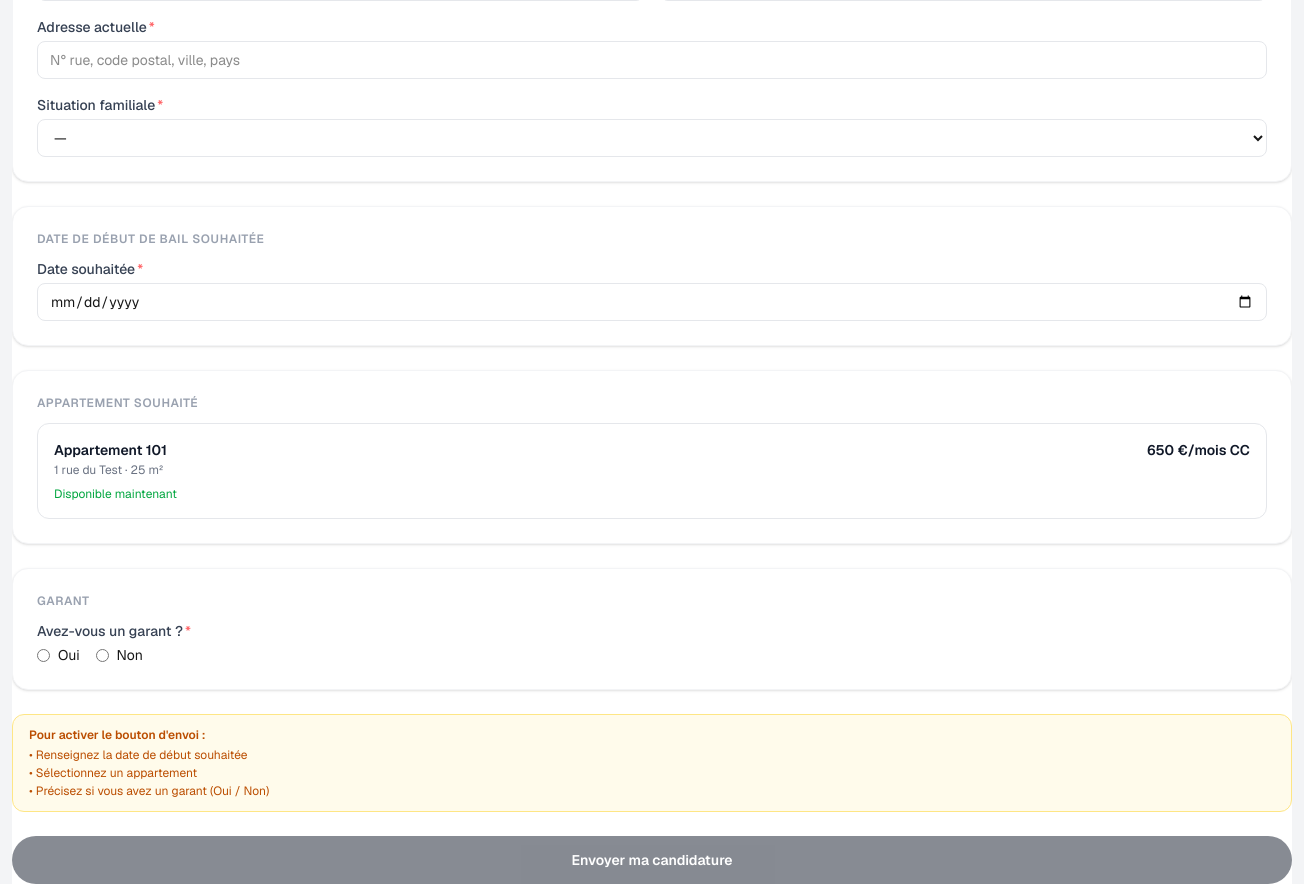
Test case: CandidateForm — section garant › affiche la section justificatifs garant si 'Oui'
The width and height of the screenshot is (1304, 884).
(page scrolled)
Click the radio button labelled "Oui" at (44, 655), box [37,648,50,662]
(page scrolled)
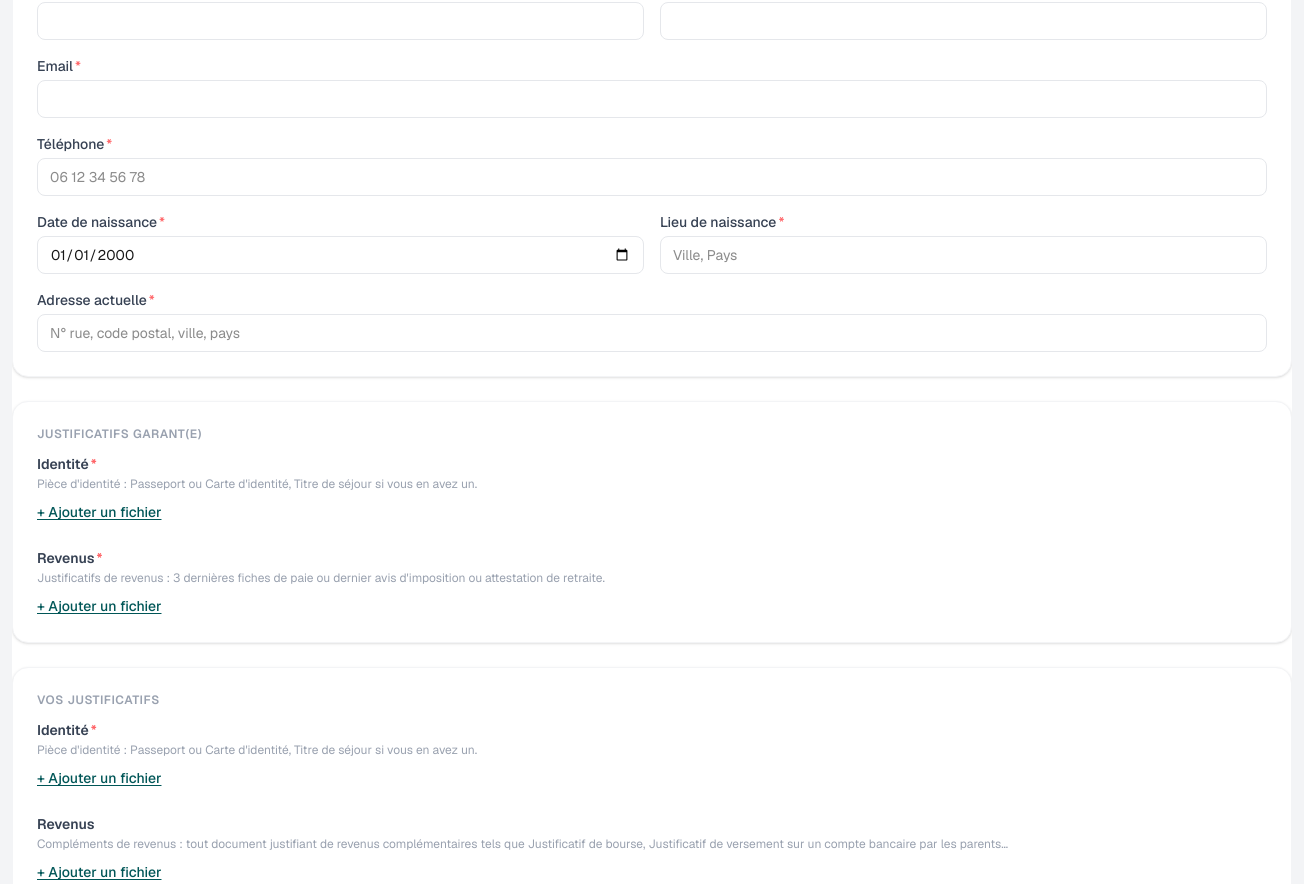
expect the heading "Justificatifs garant(e)" is shown: met, box [37,426,202,442]
